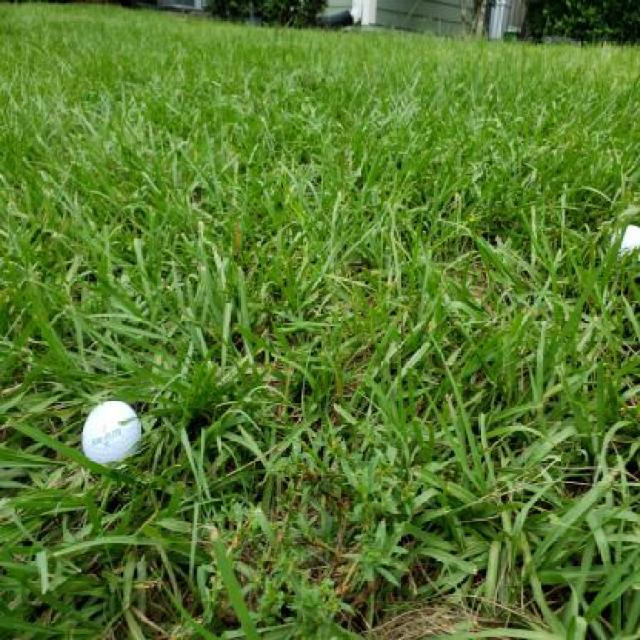golfball: (82, 398, 142, 469), (610, 220, 638, 260)
